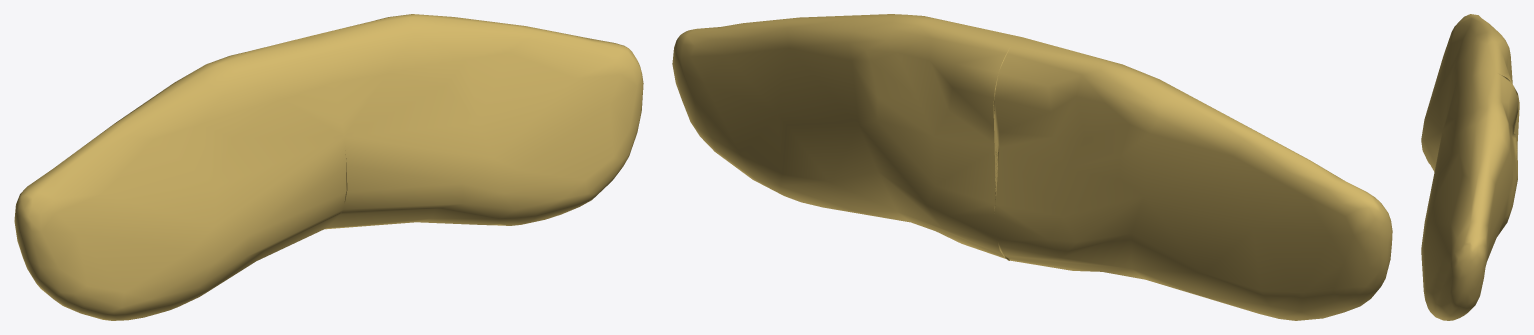
3 views of the same model, side by side, from view 1: azimuth 30°, elevation 25°; view 2: azimuth 150°, elevation 25°; view 3: azimuth 270°, elevation 25° (orthographic). The views are drawn at different scales.
Parts seen in each view (by area): view 1: 后连合; view 2: 后连合; view 3: 后连合.
Part boxes in pixels (left/top/right/bottom): 后连合: left=14, top=14, right=643, bottom=320; 后连合: left=672, top=14, right=1392, bottom=320; 后连合: left=1421, top=14, right=1519, bottom=320.
Bounding box in the file's own units: 0.0222 × 0.00721 × 0.0039.
